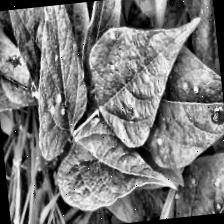Bean Rust: (82, 16, 208, 144), (54, 124, 175, 216), (27, 4, 90, 162), (143, 62, 224, 171), (172, 148, 224, 218), (145, 0, 194, 24)
